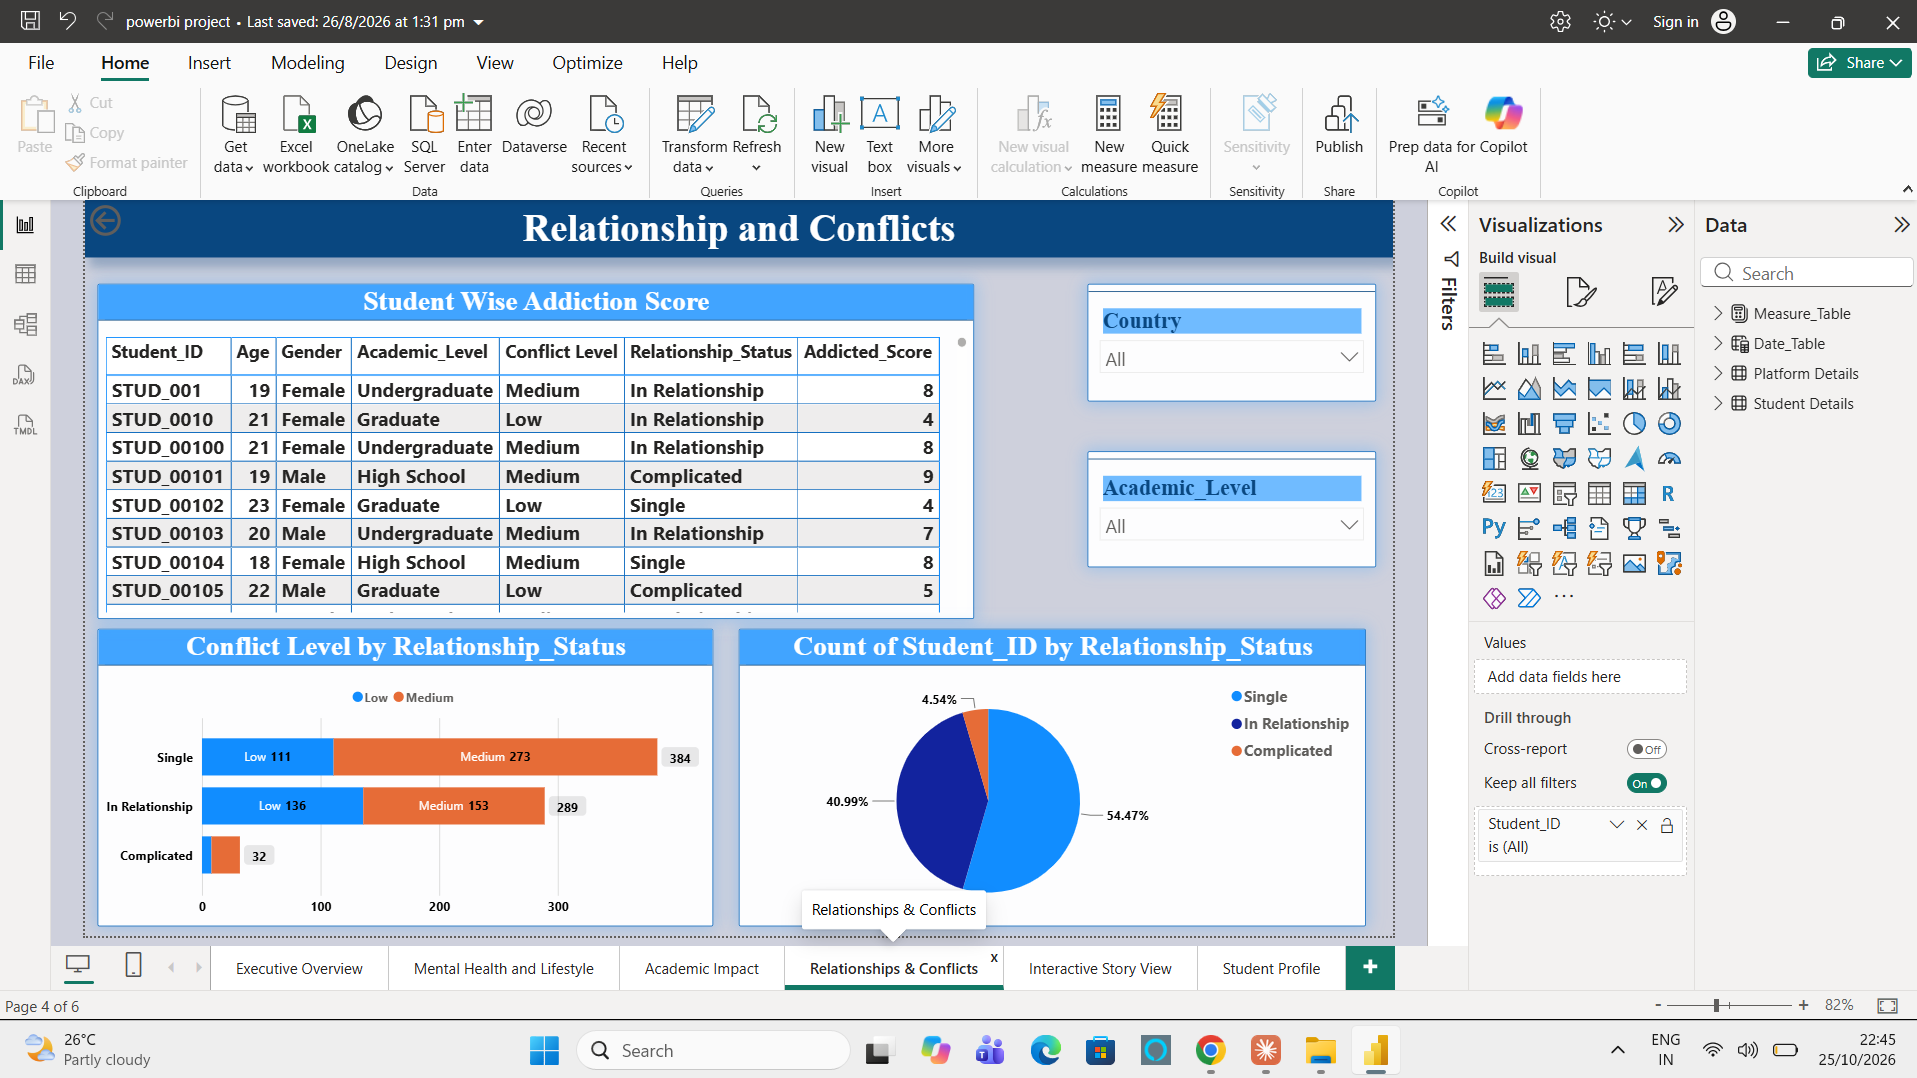

The page's visual inventory and layout, read from the dashboard file:
{"tool":"powerbi","page":{"name":"Page 4","canvas":[1280,720],"ordinal":3},"visuals":[{"type":"barChart","title":"Conflict Level by Relationship_Status","fields":{"Category":["Student Details.Relationship_Status"],"Y":["CountNonNull(Student Details.Student_ID)"],"Series":["Student Details.Conflict Level"]},"box":[12.5,420,602.5,291.2],"z":0},{"type":"tableEx","title":"Student Wise Addiction Score","fields":{"Values":["Student Details.Student_ID","Student Details.Age","Student Details.Gender","Student Details.Academic_Level","Student Details.Conflict Level","Student Details.Relationship_Status","Student Details.Addicted_Score"]},"box":[12.2,81.9,857.2,327.7],"z":1000},{"type":"pieChart","fields":{"Category":["Student Details.Relationship_Status"],"Y":["CountNonNull(Student Details.Student_ID)"]},"box":[640,420,613.8,291.2],"z":2000},{"type":"textbox","box":[0,0,1280,56.2],"z":3000},{"type":"slicer","fields":{"Values":["Student Details.Country"]},"box":[981.2,82.5,282.5,115],"z":4000},{"type":"slicer","fields":{"Values":["Student Details.Academic_Level"]},"box":[981.2,246.2,282.5,113.8],"z":5000},{"type":"actionButton","box":[0,0,100,40],"z":6000}]}

Visuals, with their boxes on the page's 1280x720 design canvas (x1, y1, x2, y2). These are canvas units, not pixel positions in the 1917x1078 screenshot, which may show the page scaled, cropped or inside an application window:
"Conflict Level by Relationship_Status" barChart: <box>12,420,615,711</box>
"Student Wise Addiction Score" tableEx: <box>12,82,869,410</box>
pieChart - Student Details.Relationship_Status x CountNonNull(Student Details.Student_ID): <box>640,420,1254,711</box>
textbox: <box>0,0,1280,56</box>
slicer - Student Details.Country: <box>981,82,1264,198</box>
slicer - Student Details.Academic_Level: <box>981,246,1264,360</box>
actionButton: <box>0,0,100,40</box>
